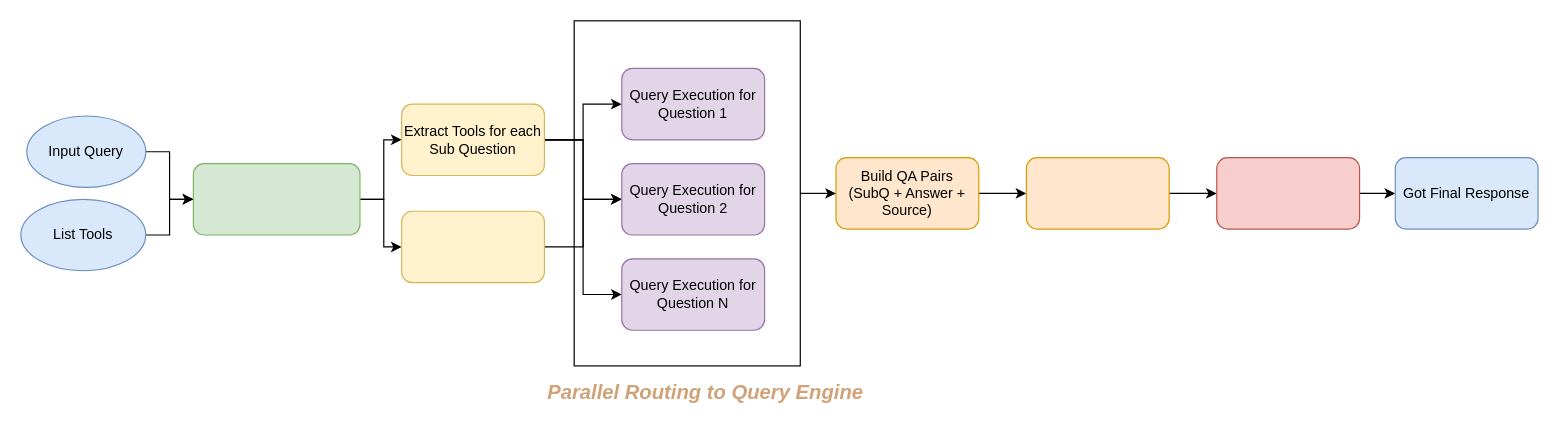
The diagram is 1559 pixels wide and 432 high, and some of its shapes have lost their labels. Each missing label, with the centre of its shape:
"Aggregate and Construct Node for Synthesizer" goes at point (1097, 192).
"Response Synthesizer" goes at point (1288, 192).
"Sub Questions" goes at point (472, 246).
"Sub-Question Generator (OpenAI Question Generator)" goes at point (276, 198).
